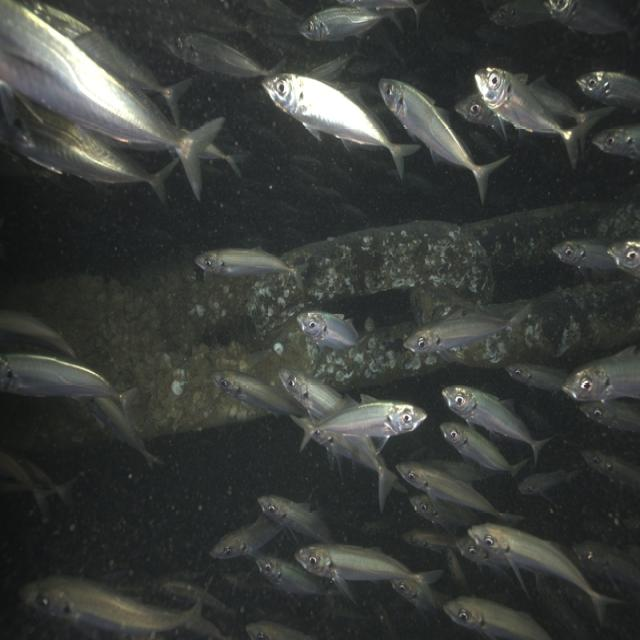ChainLink: (248, 221, 494, 331), (452, 279, 640, 367), (462, 203, 628, 268), (314, 325, 441, 387), (412, 289, 462, 324)
